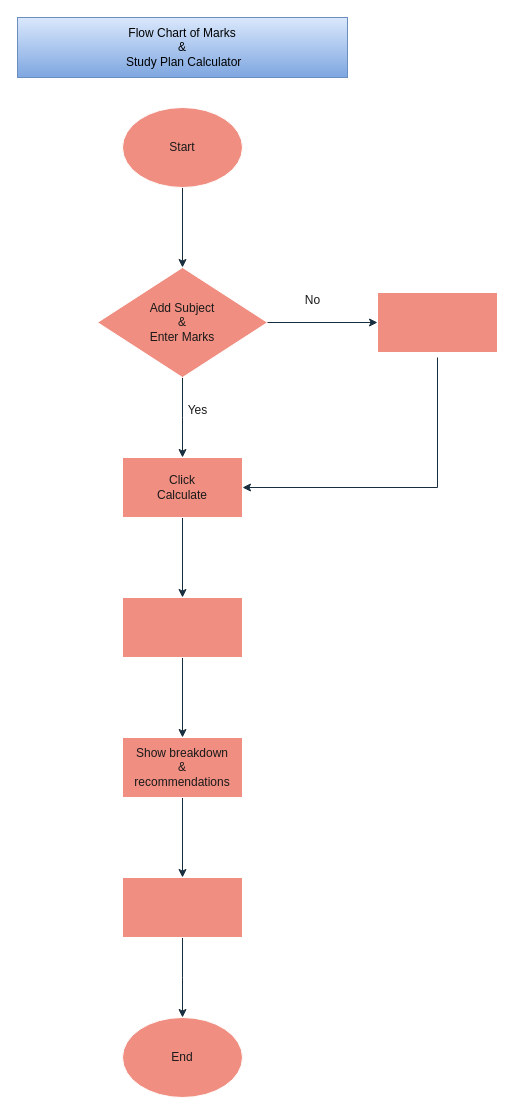
The diagram is 515 pixels wide and 1115 high, and some of its shapes have lost their labels. The box of each missing label's shape, as (x1, y1, x2, y2) in pixels:
Compute Results: (122, 596, 242, 658)
Delete: (376, 292, 498, 352)
Detailed Study Plan: (122, 876, 242, 938)
